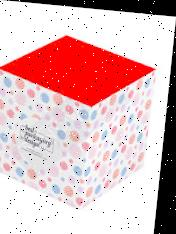cube: (0, 29, 161, 212)
